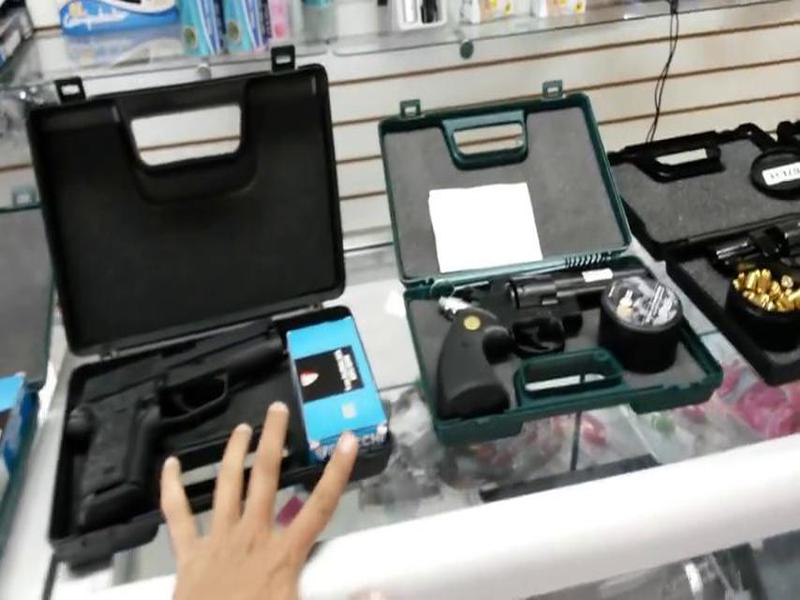Pistola: (62, 331, 279, 494)
